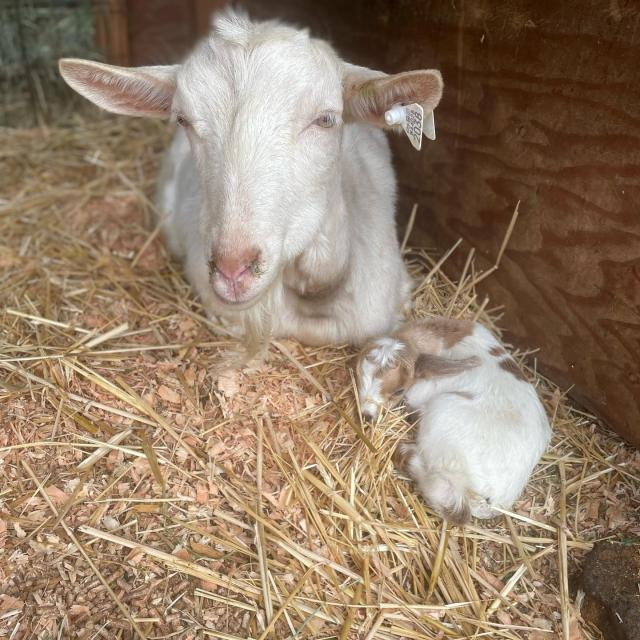goat: (52, 5, 432, 355), (343, 311, 584, 520)
